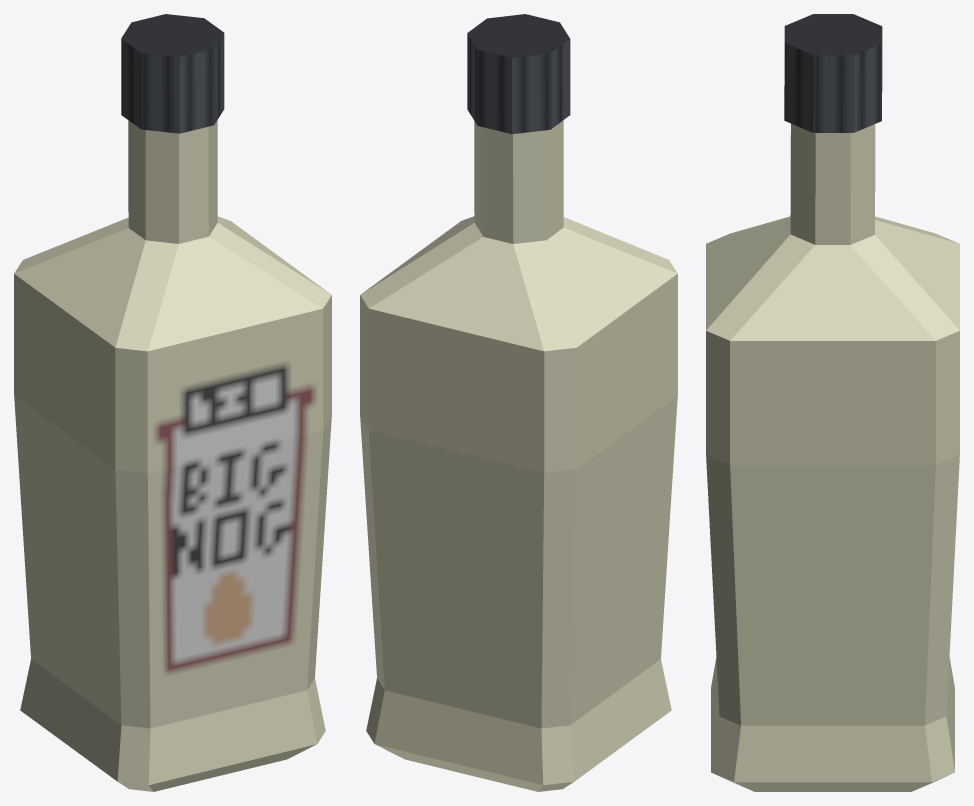
The model's file is Alcohol1.fbx.
3 views of the same model, side by side, from view 1: azimuth 30°, elevation 25°; view 2: azimuth 150°, elevation 25°; view 3: azimuth 270°, elevation 25° (orthographic).
Parts seen in each view (by area): view 1: Alcohol.003; view 2: Alcohol.003; view 3: Alcohol.003.
Boxes of the visible parts, box(x1,y1,x2,y2) form: Alcohol.003: box(14, 14, 331, 791); Alcohol.003: box(360, 14, 677, 791); Alcohol.003: box(706, 14, 959, 791).
Bounding box in the file's own units: 18.88 × 58.79 × 18.88.
